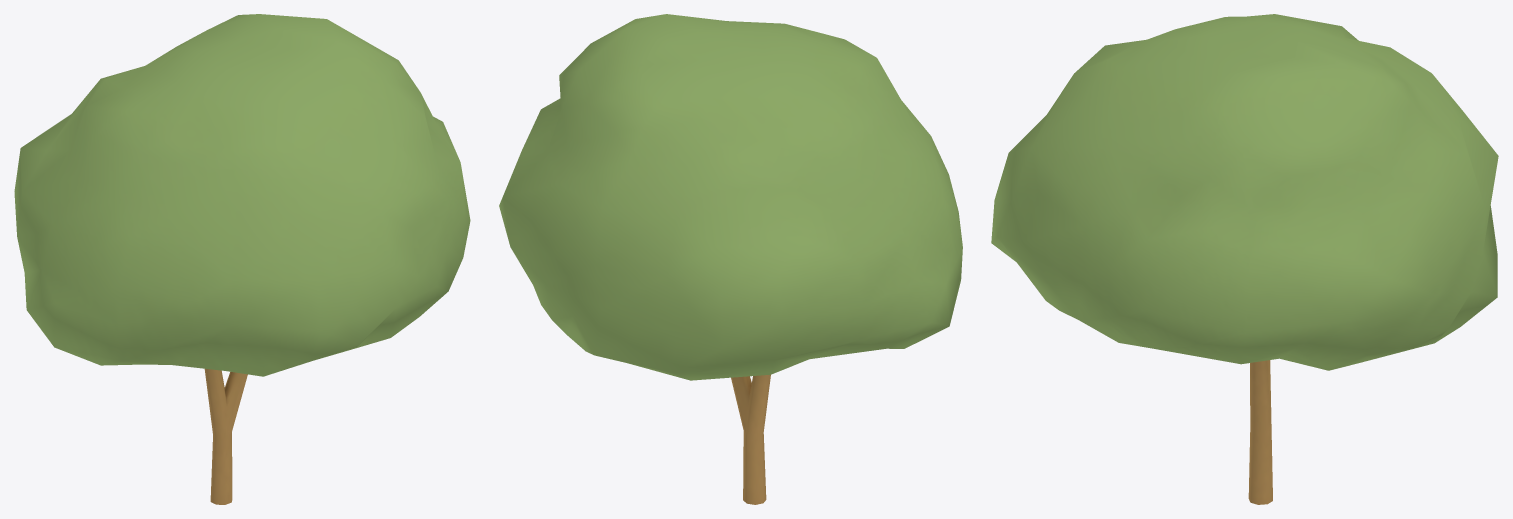
The picture shows the model from 3 angles, left to right: view 1: azimuth 30°, elevation 25°; view 2: azimuth 150°, elevation 25°; view 3: azimuth 270°, elevation 25°; orthographic projection. The views are drawn at different scales.
Parts seen in each view (by area): view 1: Plod; view 2: Plod; view 3: Plod.
Boxes of the visible parts, x1,y1,x2,y2 form: Plod: [14, 14, 470, 504]; Plod: [499, 14, 962, 504]; Plod: [991, 14, 1498, 504].
Bounding box in the file's own units: 15.25 × 15.76 × 15.04.
Materials: 1 (1 with a texture image).
